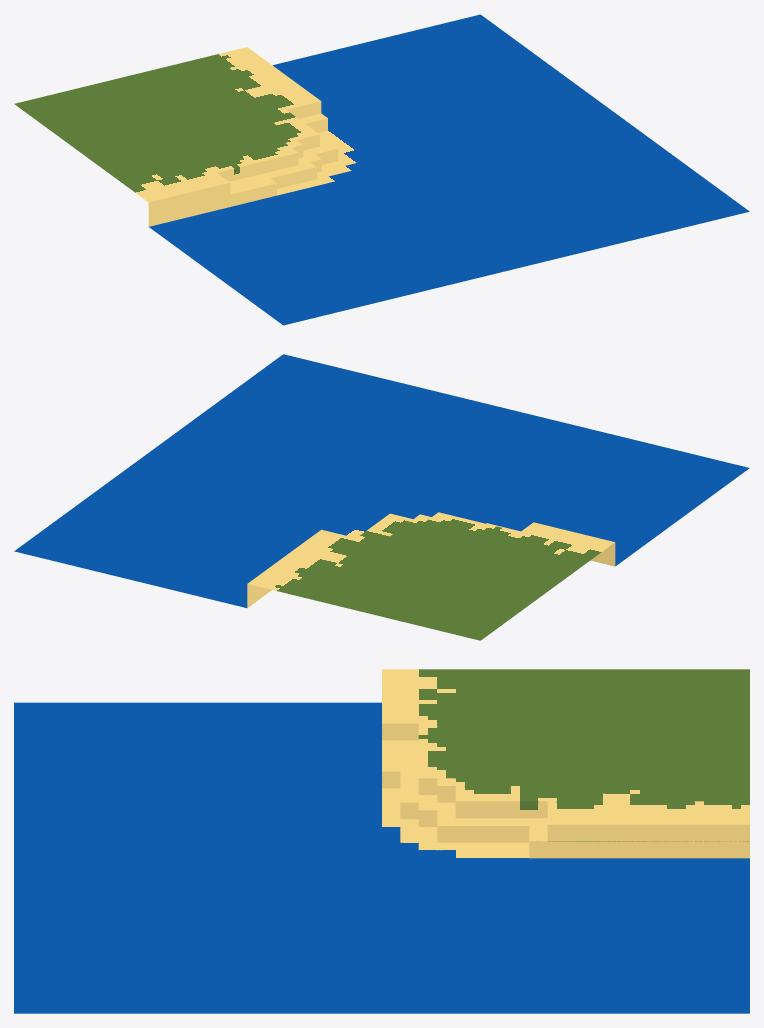
File: LWWW(2).glb
The picture shows the model from 3 angles, top to bottom: view 1: azimuth 30°, elevation 25°; view 2: azimuth 150°, elevation 25°; view 3: azimuth 270°, elevation 25°; orthographic projection. The views are drawn at different scales.
Visible parts, largest first — view 1: model_0.001; view 2: model_0.001; view 3: model_0.001.
Part boxes in pixels (bbox=[...]): model_0.001: bbox=[14, 14, 749, 325]; model_0.001: bbox=[14, 354, 749, 640]; model_0.001: bbox=[14, 669, 749, 1013].
Size of the model in its own units: 80 by 4 by 80.
1 material, 1 textured.
